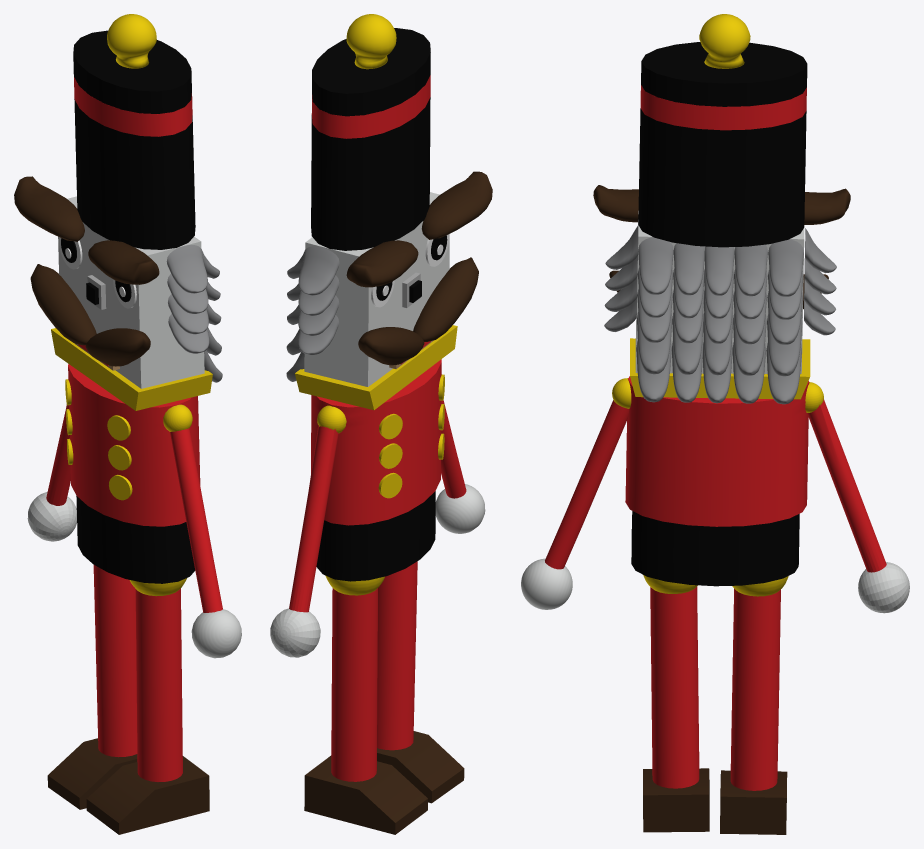
File: NuttySingleMesh.fbx
3 renders of one model, left to right at view 1: azimuth 30°, elevation 25°; view 2: azimuth 150°, elevation 25°; view 3: azimuth 270°, elevation 25°, orthographic. The views are drawn at different scales.
Visible parts, largest first — view 1: Mesh_Corpo_Corpo1; view 2: Mesh_Corpo_Corpo1; view 3: Mesh_Corpo_Corpo1.
Boxes of the visible parts, left/top/right/bottom form: Mesh_Corpo_Corpo1: left=14, top=14, right=241, bottom=834; Mesh_Corpo_Corpo1: left=270, top=14, right=492, bottom=834; Mesh_Corpo_Corpo1: left=521, top=14, right=909, bottom=834.
Bounding box in the file's own units: 0.1699 × 1.02 × 0.4498.
